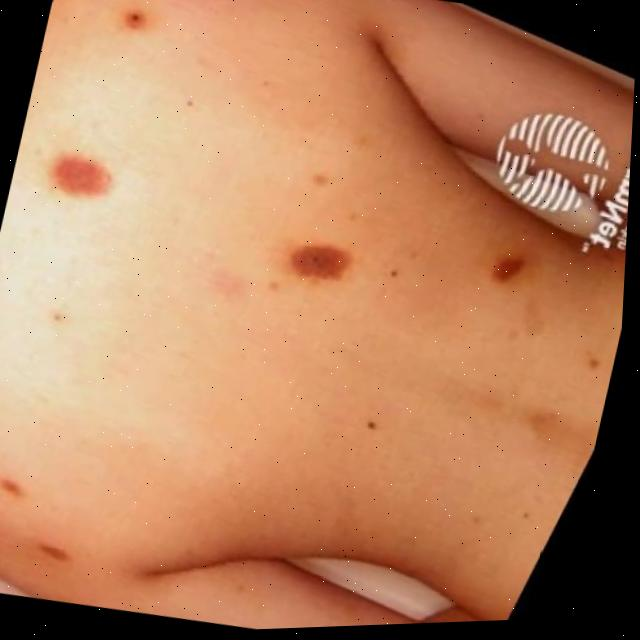Eczema: (48, 143, 129, 196), (289, 229, 346, 270), (479, 260, 525, 289)
